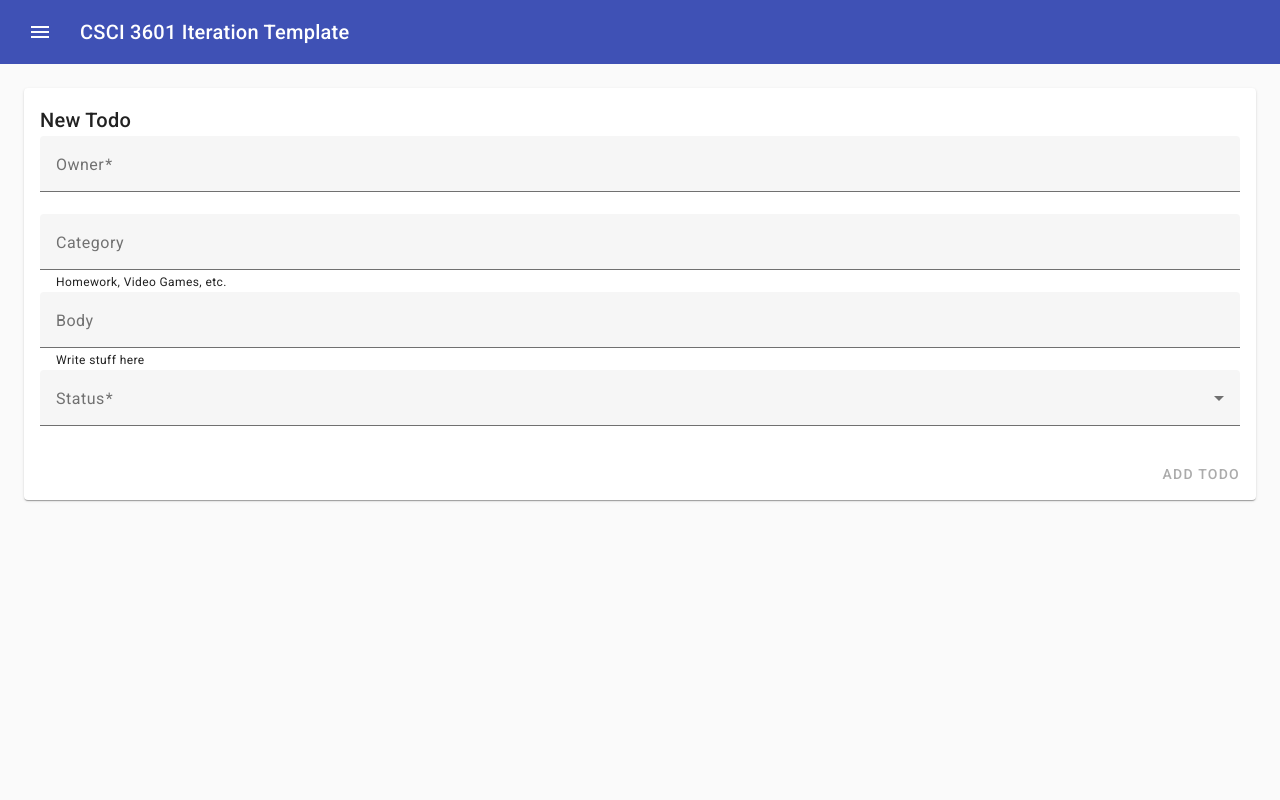
Test: Add todo › Should enable and disable the add todo button
expect the button with test id "confirmAddTodoButton" is disabled: met, box [1155,456,1249,492]
Type "Test" into the field labelled "Owner" at (640, 172), box [56,160,1224,184]
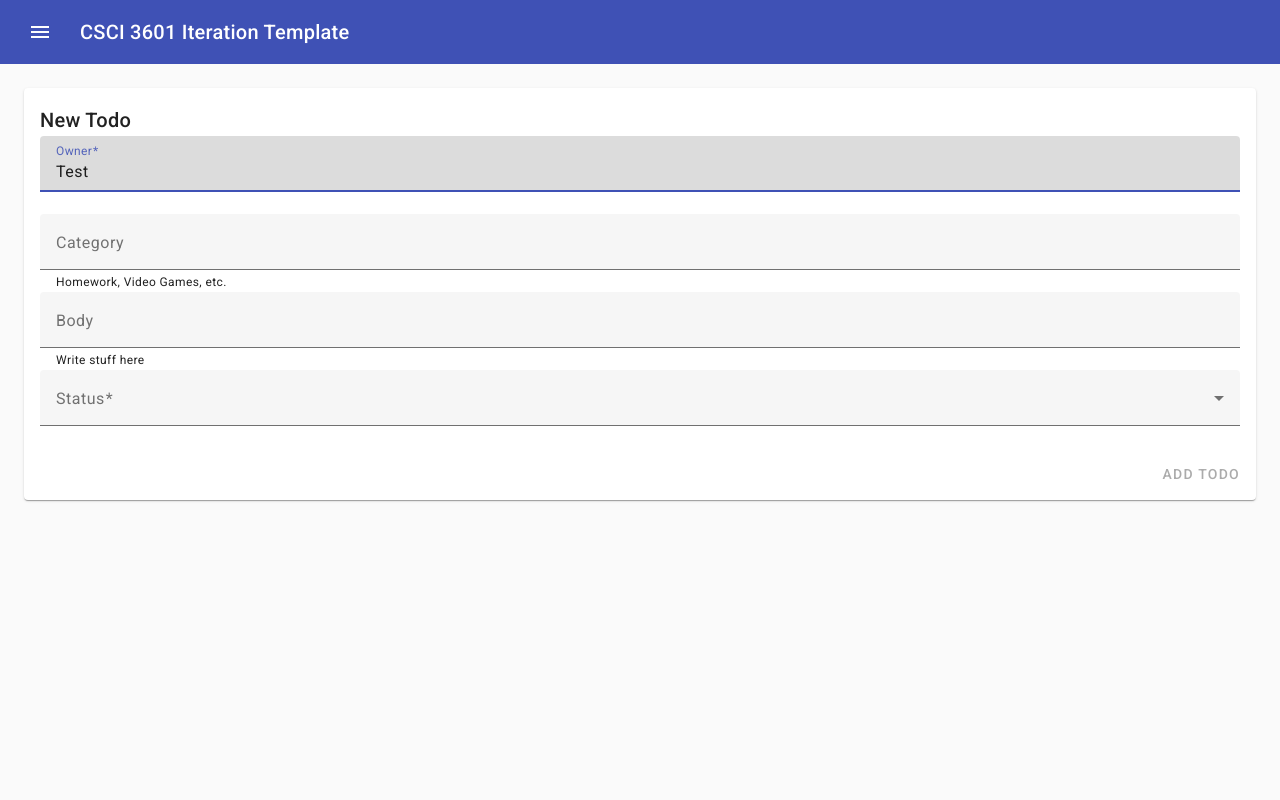
expect the button with test id "confirmAddTodoButton" is disabled: met, box [1155,456,1249,492]
Type "homework" into the field labelled "Category" at (640, 250), box [56,238,1224,262]
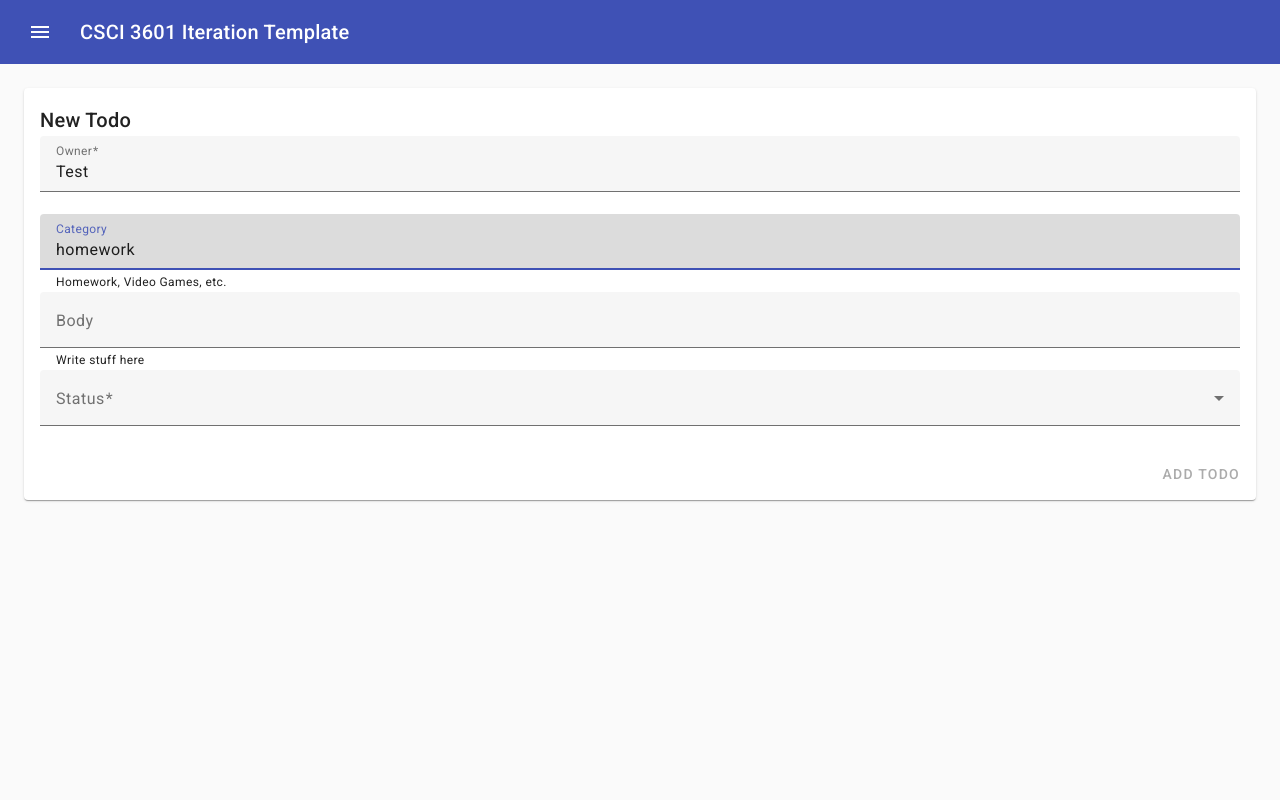
expect the button with test id "confirmAddTodoButton" is disabled: met, box [1155,456,1249,492]
Type "This is a test!" into the field labelled "Body" at (640, 328), box [56,316,1224,340]
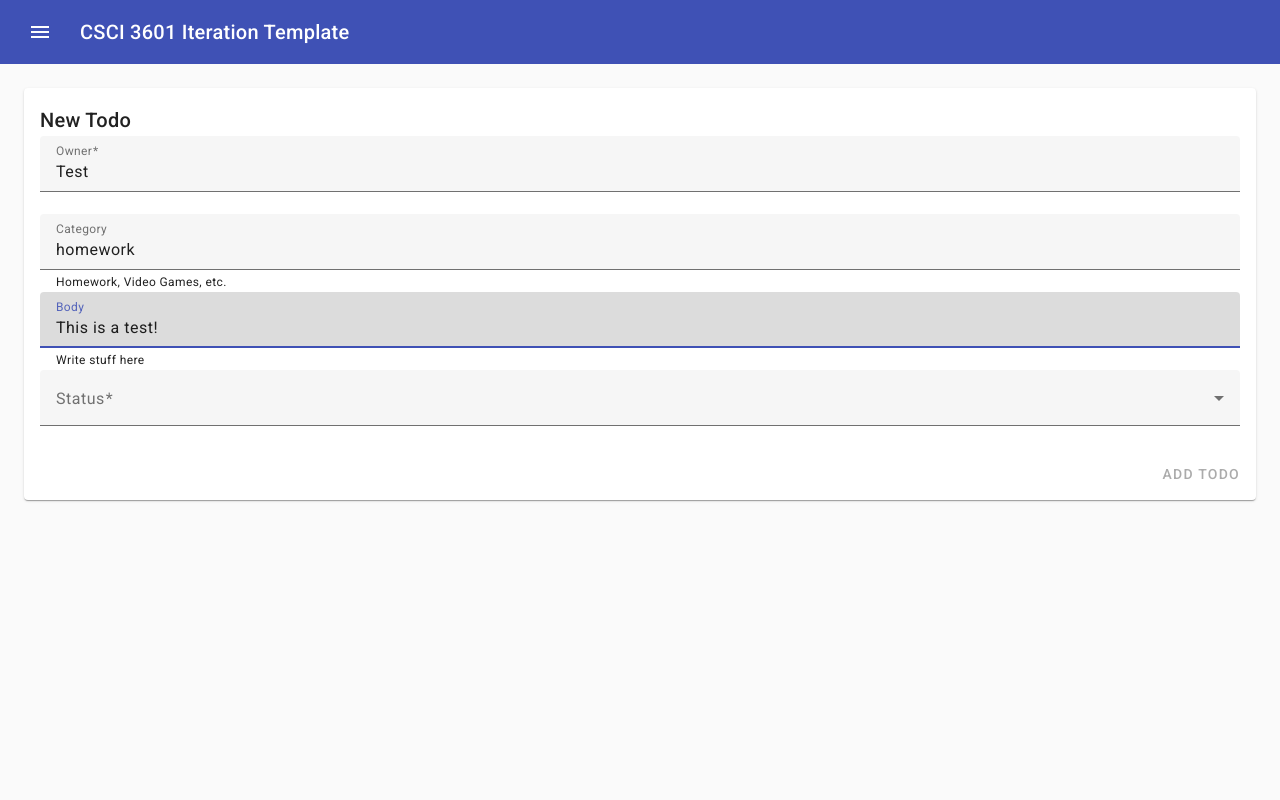
expect the button with test id "confirmAddTodoButton" is disabled: met, box [1155,456,1249,492]
Click the dropdown at (640, 406), box [56,394,1224,418]
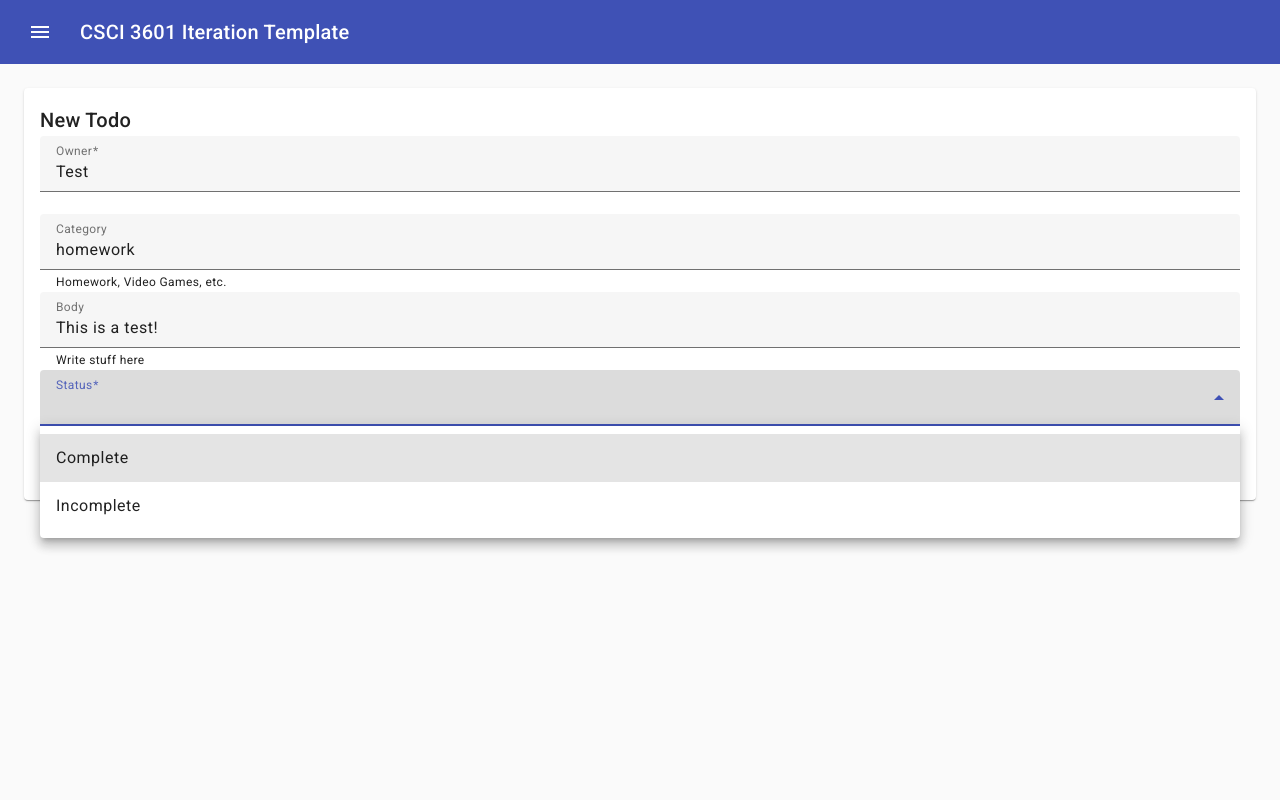
Click the option "Complete" at (92, 458), box [40,434,1240,482]
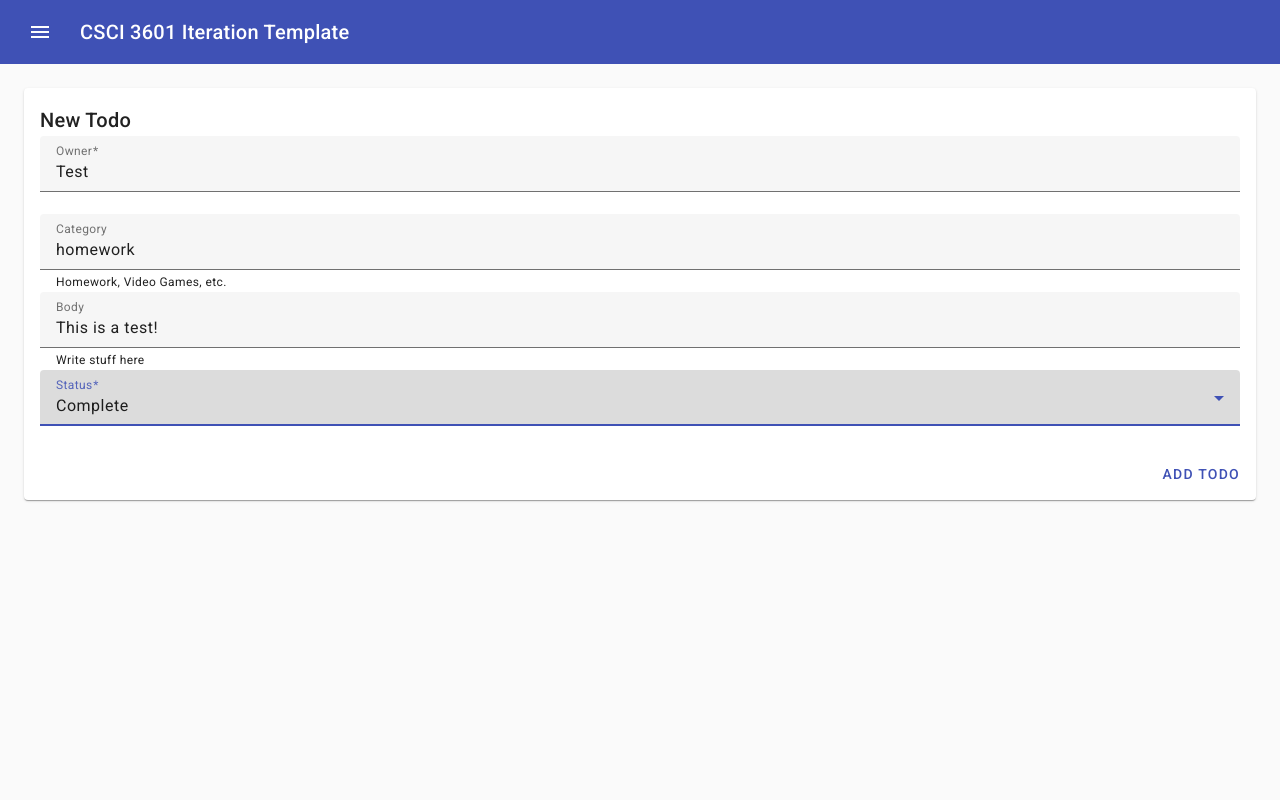
expect the button with test id "confirmAddTodoButton" is enabled: met, box [1155,456,1249,492]
